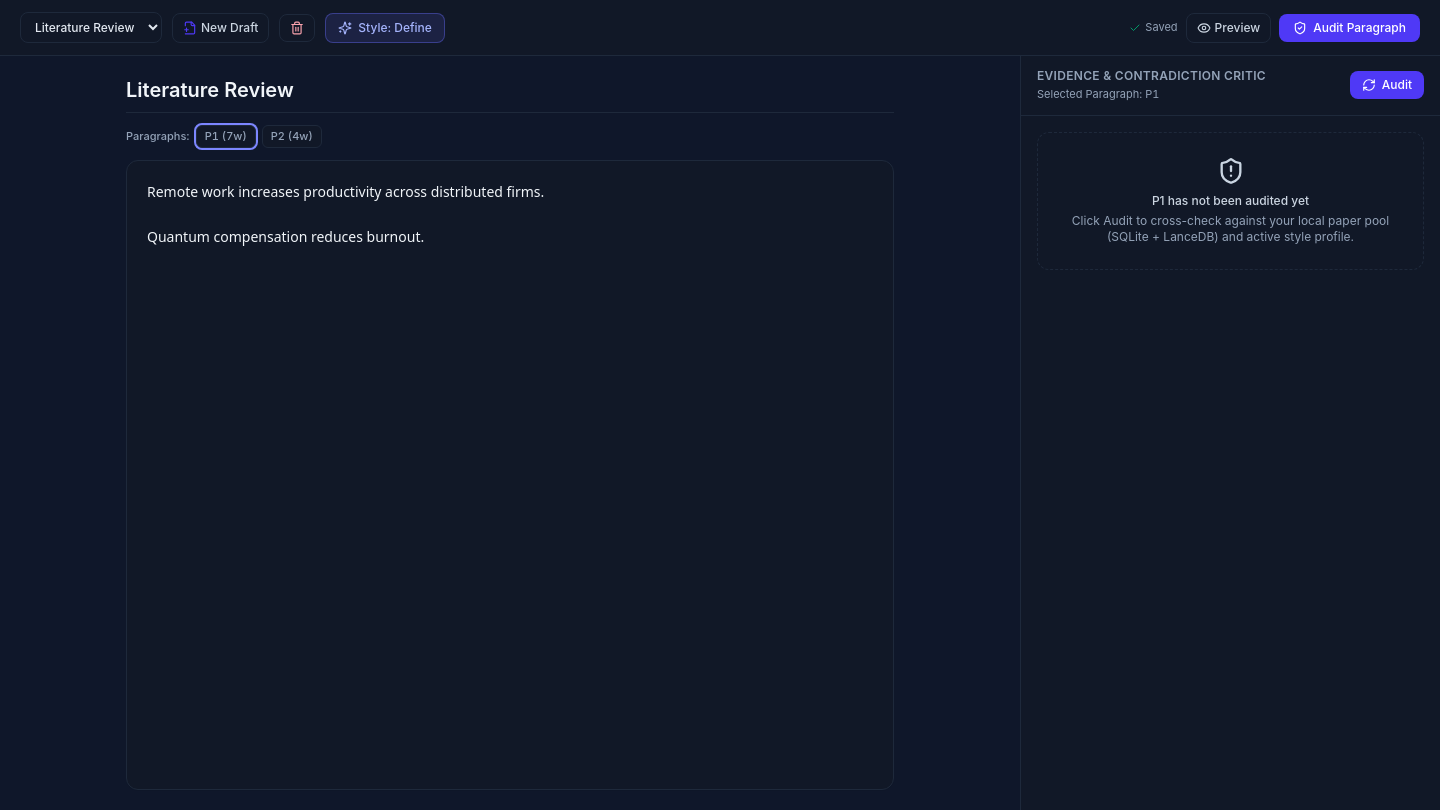
Scenario: DraftCriticTab › extracts a new style profile via StyleProfileModal
Later steps or results of the test are not shown.
Expected: the dropdown showing "Literature Review" is shown, [20,12,162,43]
Click the button "Style: Define" at (385, 28), box [325,12,445,42]
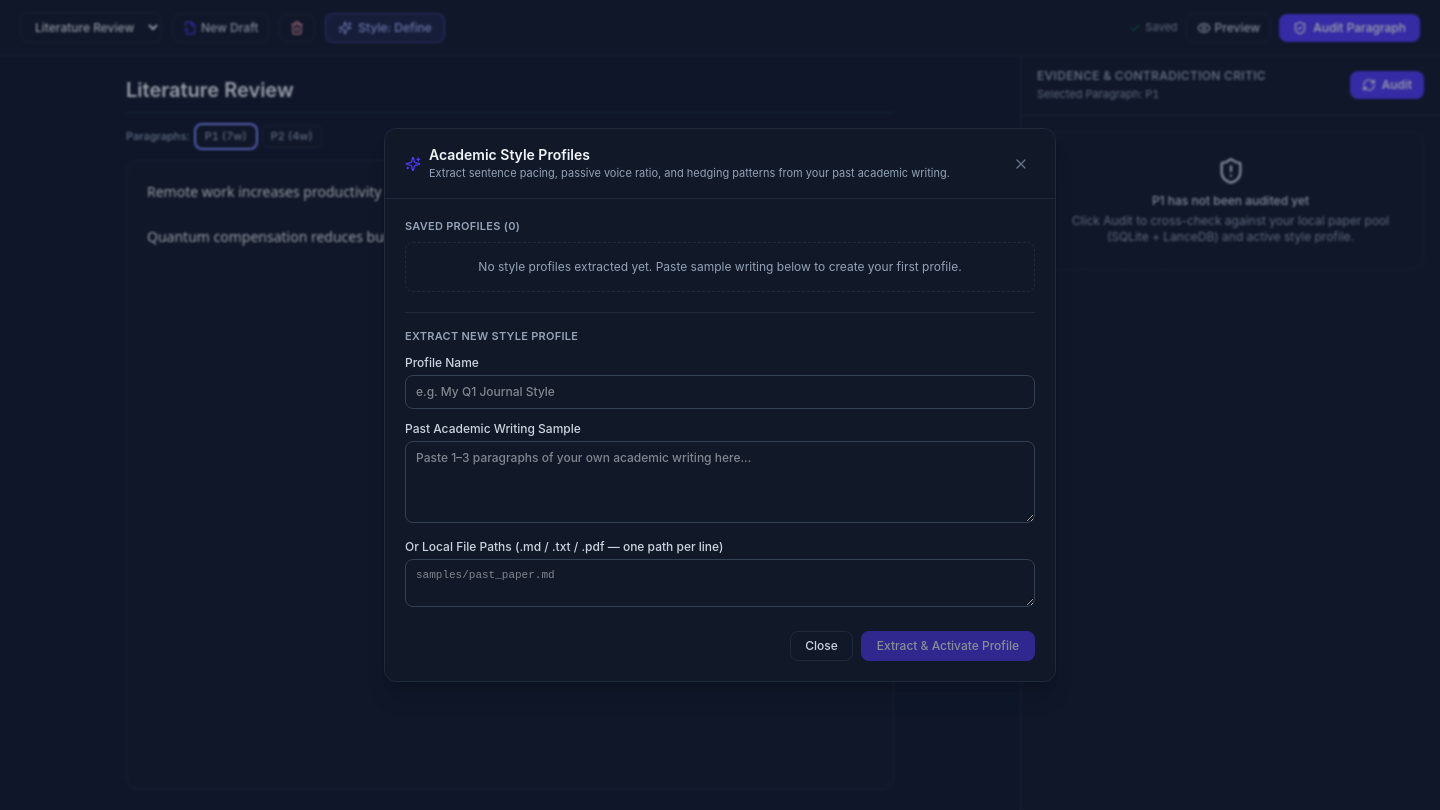
Expected: the heading "Academic Style Profiles" is shown, [429,146,590,163]
